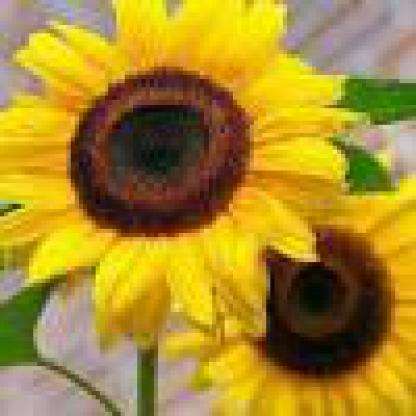Kenanga: (251, 81, 376, 231), (288, 312, 384, 402), (14, 284, 79, 348), (81, 319, 133, 389), (20, 112, 55, 145), (82, 112, 103, 143)
